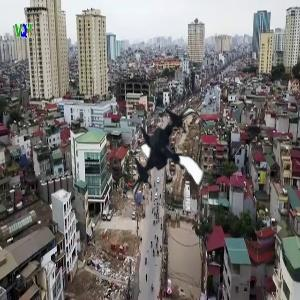drone: (116, 104, 219, 207)
